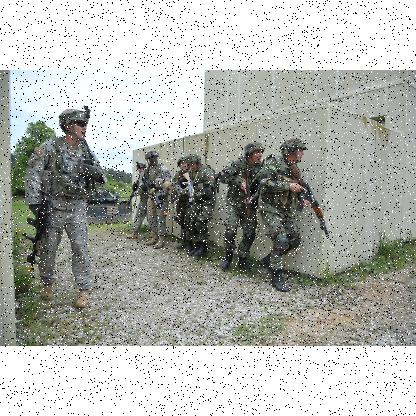gun: (287, 162, 329, 232), (20, 189, 52, 273), (236, 163, 254, 223), (180, 169, 198, 205)
